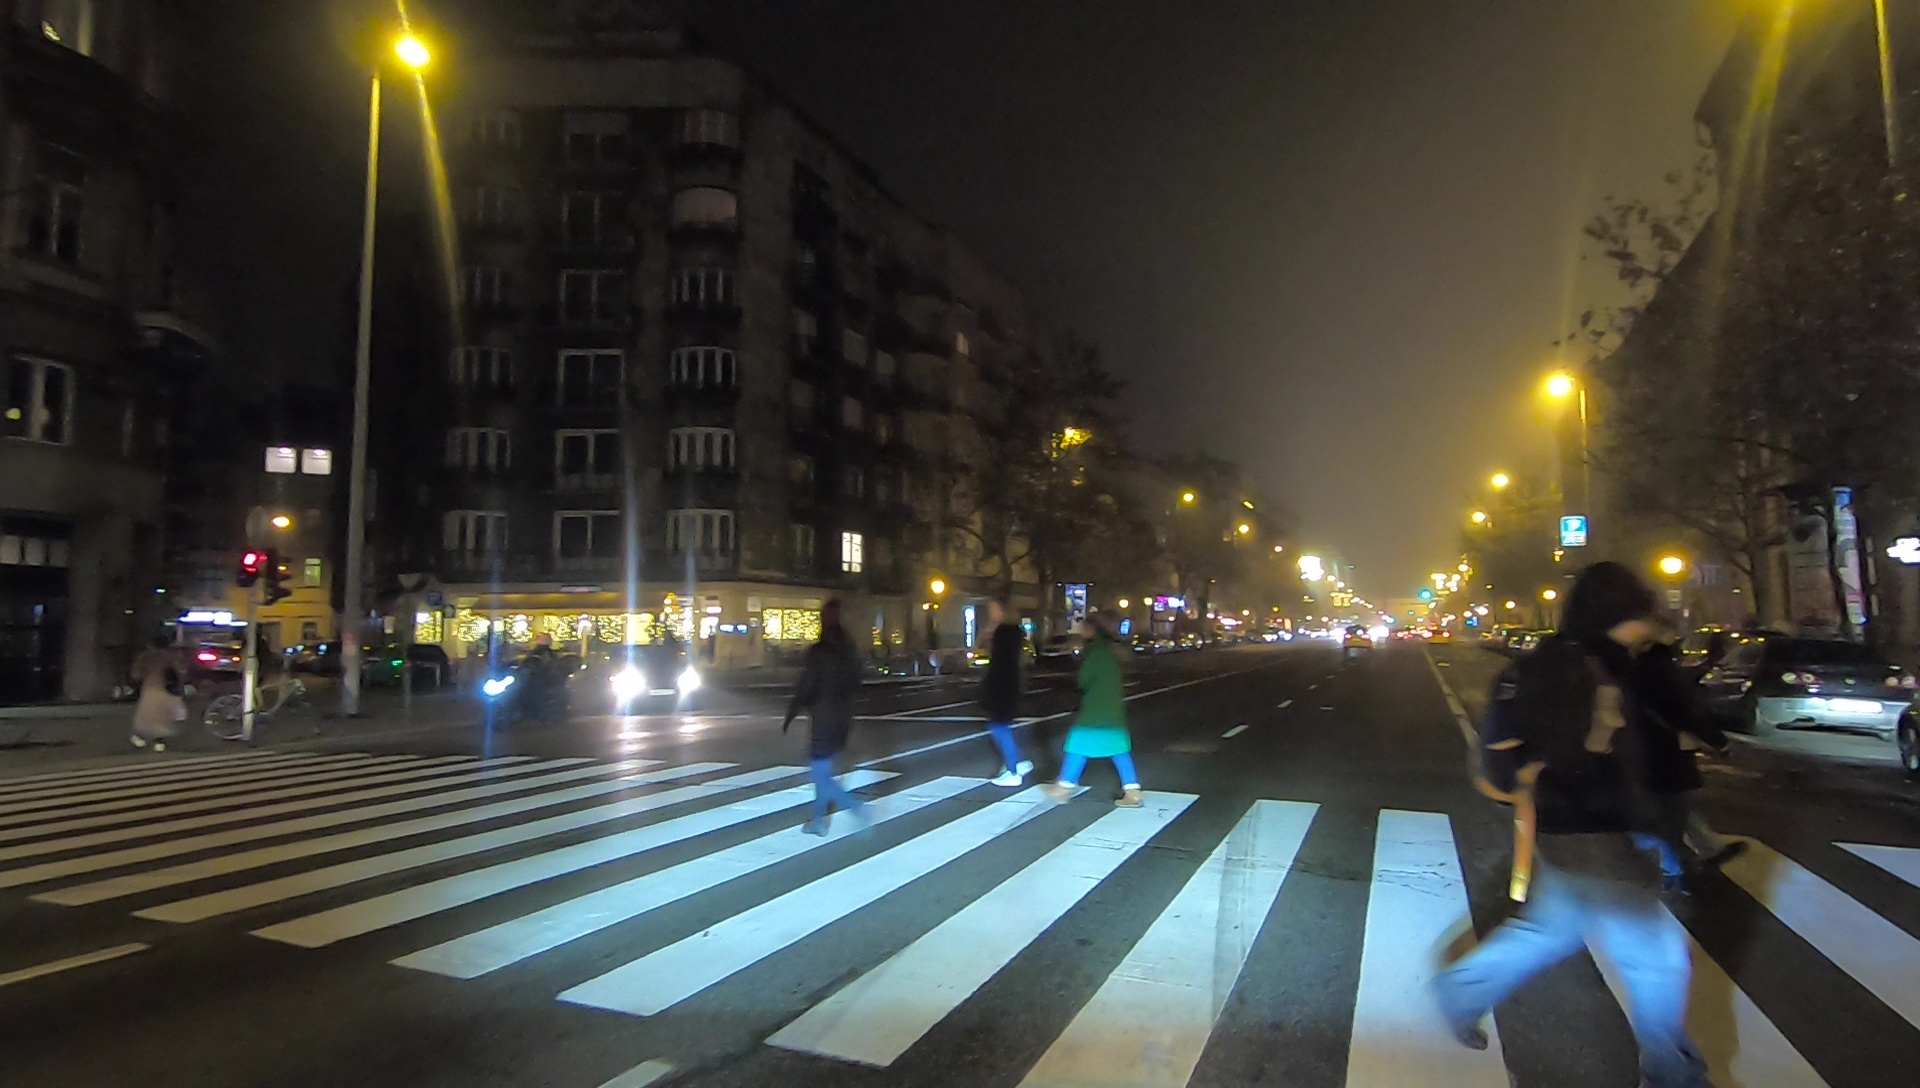person: (1434, 549, 1719, 1078), (784, 589, 871, 841), (1058, 589, 1141, 804), (978, 600, 1036, 787), (134, 623, 184, 752)
